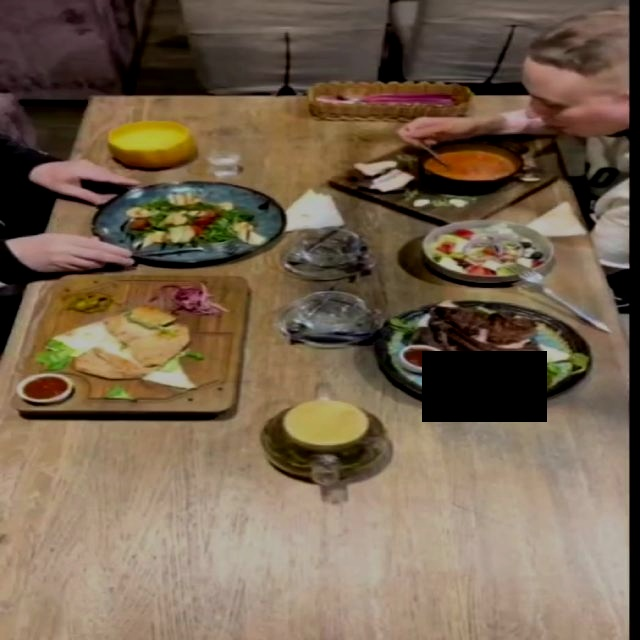meat: (11, 274, 255, 417), (371, 299, 592, 406)
salad: (88, 180, 282, 264), (421, 218, 557, 283)
soup: (328, 134, 563, 226), (106, 120, 195, 167)
tea: (246, 376, 415, 517)
